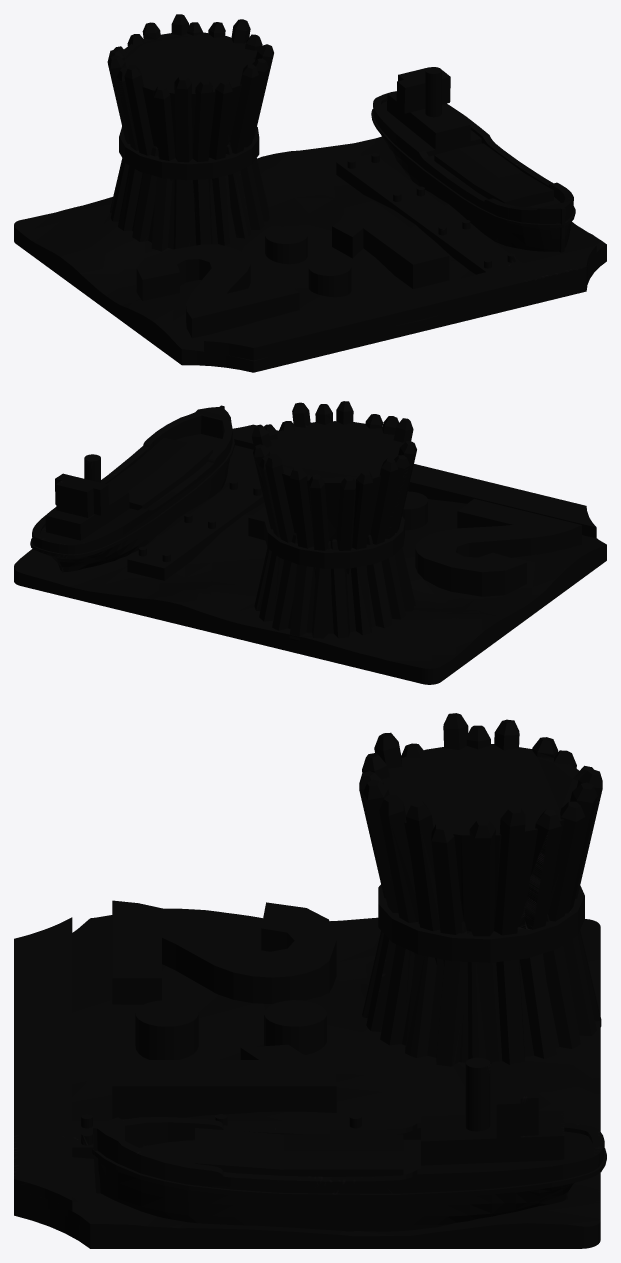
Rendered from WheatPort.fbx.
3 renders of one model, top to bottom at view 1: azimuth 30°, elevation 25°; view 2: azimuth 150°, elevation 25°; view 3: azimuth 270°, elevation 25°, orthographic. The views are drawn at different scales.
Parts seen in each view (by area): view 1: node_id3; view 2: node_id3; view 3: node_id3.
Part boxes in pixels (x1,y1,x2,y2): node_id3: [14, 14, 606, 372]; node_id3: [14, 401, 606, 684]; node_id3: [14, 713, 606, 1248].
Bounding box in the file's own units: 0.512 × 0.2193 × 0.4181.
1 material, 1 textured.
